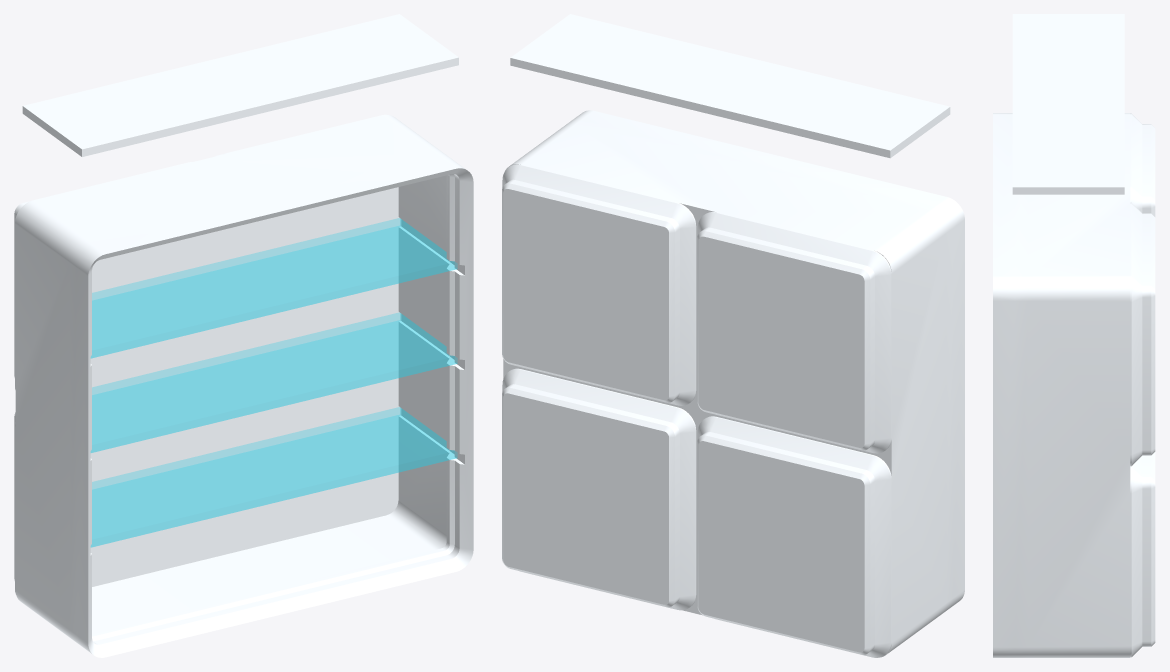
Rendered from slotted-2x2.glb.
3 renders of one model, left to right at view 1: azimuth 30°, elevation 25°; view 2: azimuth 150°, elevation 25°; view 3: azimuth 270°, elevation 25°, orthographic. The views are drawn at different scales.
Size of the model in its own units: 83.5 by 104 by 32.41.
